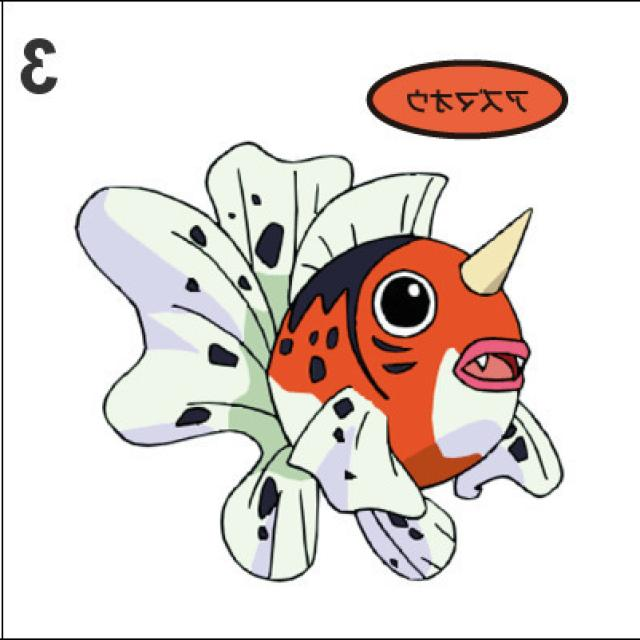Seaking: (88, 151, 549, 587)
